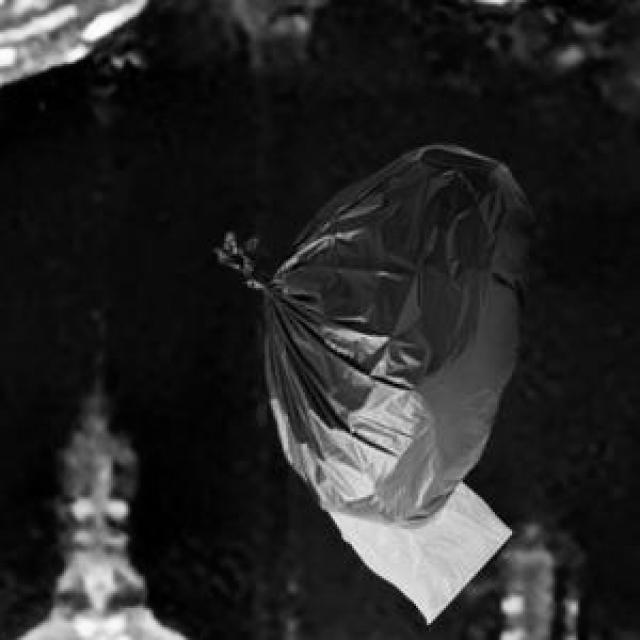miscellaneous trash: (211, 141, 531, 525)
